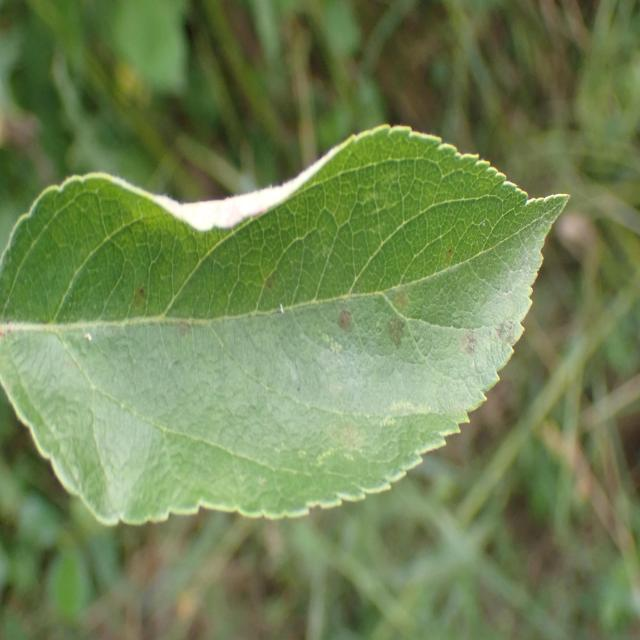scab: (16, 220, 543, 472)
